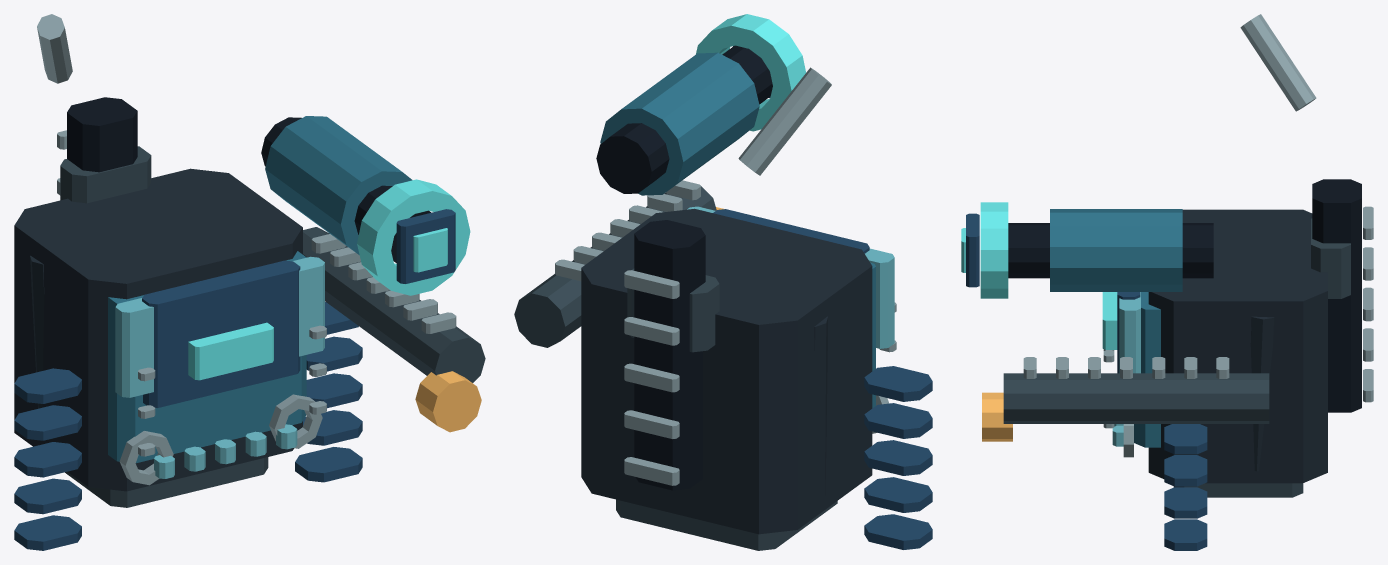
File: enemy_marksman_body.obj
3 renders of one model, left to right at view 1: azimuth 30°, elevation 25°; view 2: azimuth 150°, elevation 25°; view 3: azimuth 270°, elevation 25°, orthographic. The views are drawn at different scales.
Size of the model in its own units: 1.18 by 1.51 by 1.34.
